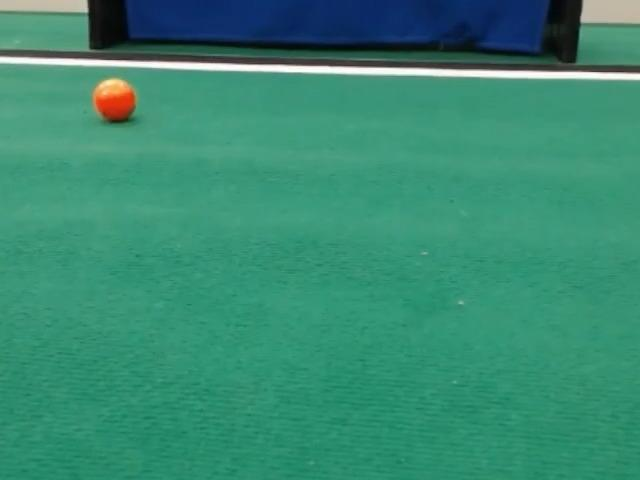Ball: (93, 78, 136, 122)
